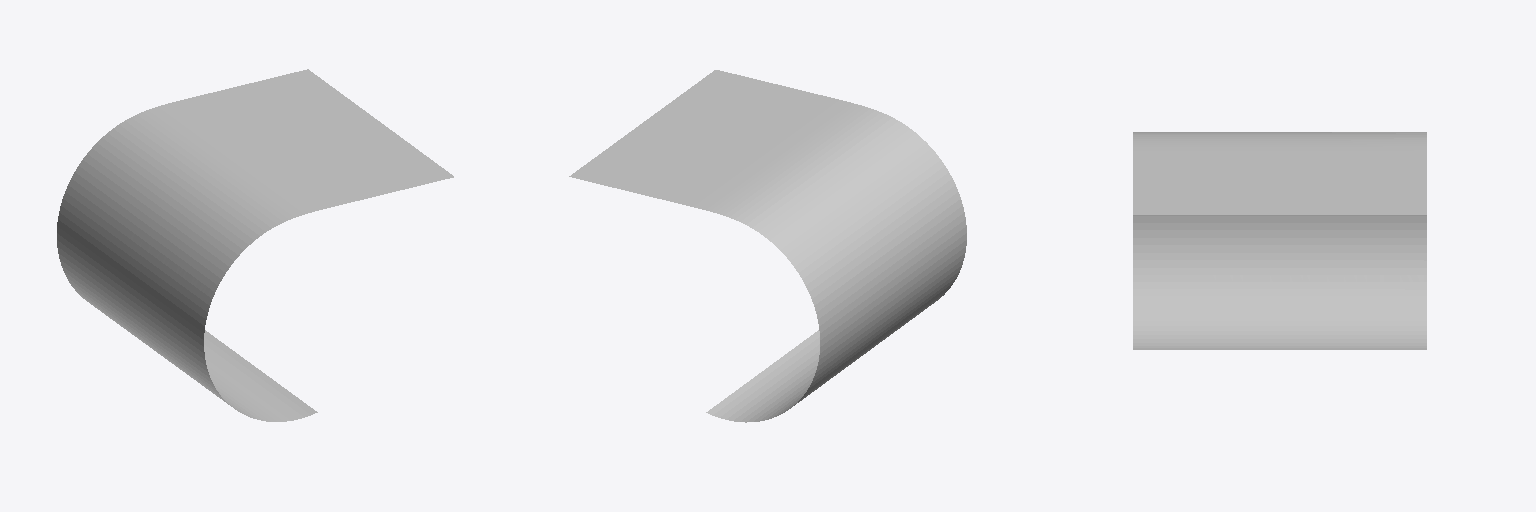
File: CurvePaper_000037.obj
3 renders of one model, left to right at view 1: azimuth 30°, elevation 25°; view 2: azimuth 150°, elevation 25°; view 3: azimuth 270°, elevation 25°, orthographic.
Parts seen in each view (by area): view 1: Plane; view 2: Plane; view 3: Plane.
Part boxes in pixels (x1,y1,x2,y2): Plane: (57, 69, 453, 421); Plane: (569, 70, 966, 422); Plane: (1133, 132, 1426, 349).
Size of the model in its own units: 2.23 by 1.74 by 2.26.